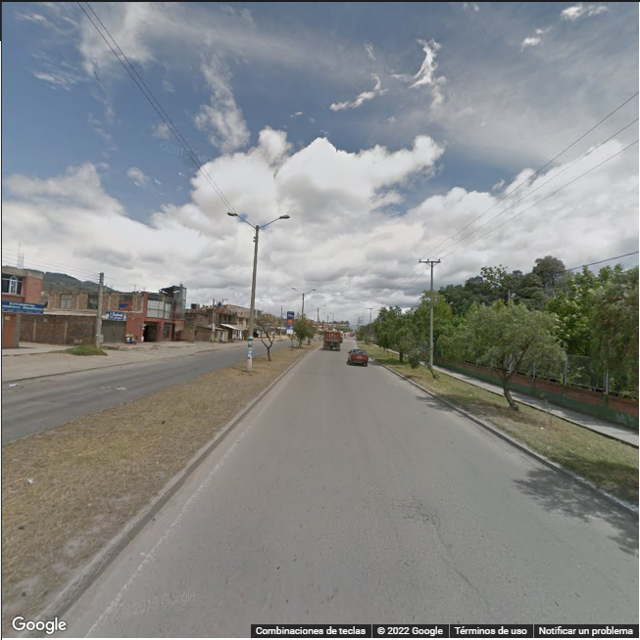D00: (439, 552, 497, 616), (408, 491, 458, 552)
